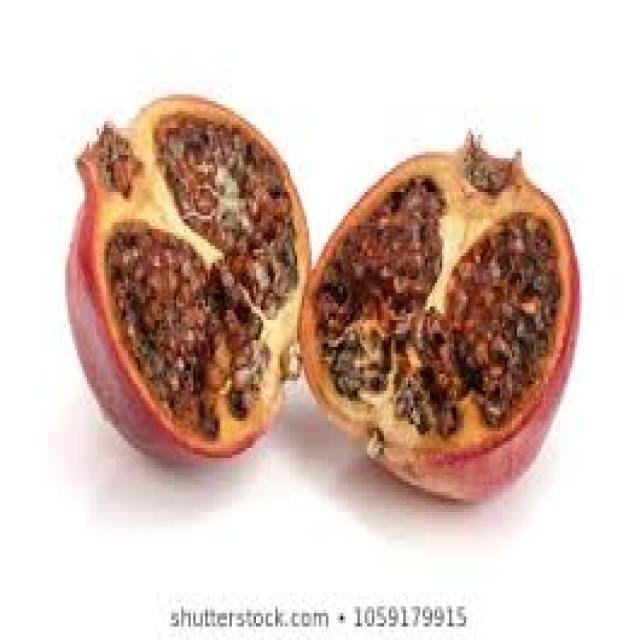organic waste: (295, 128, 577, 502), (65, 88, 309, 468), (406, 209, 553, 438), (106, 229, 258, 431), (160, 121, 294, 307), (316, 182, 435, 384)
